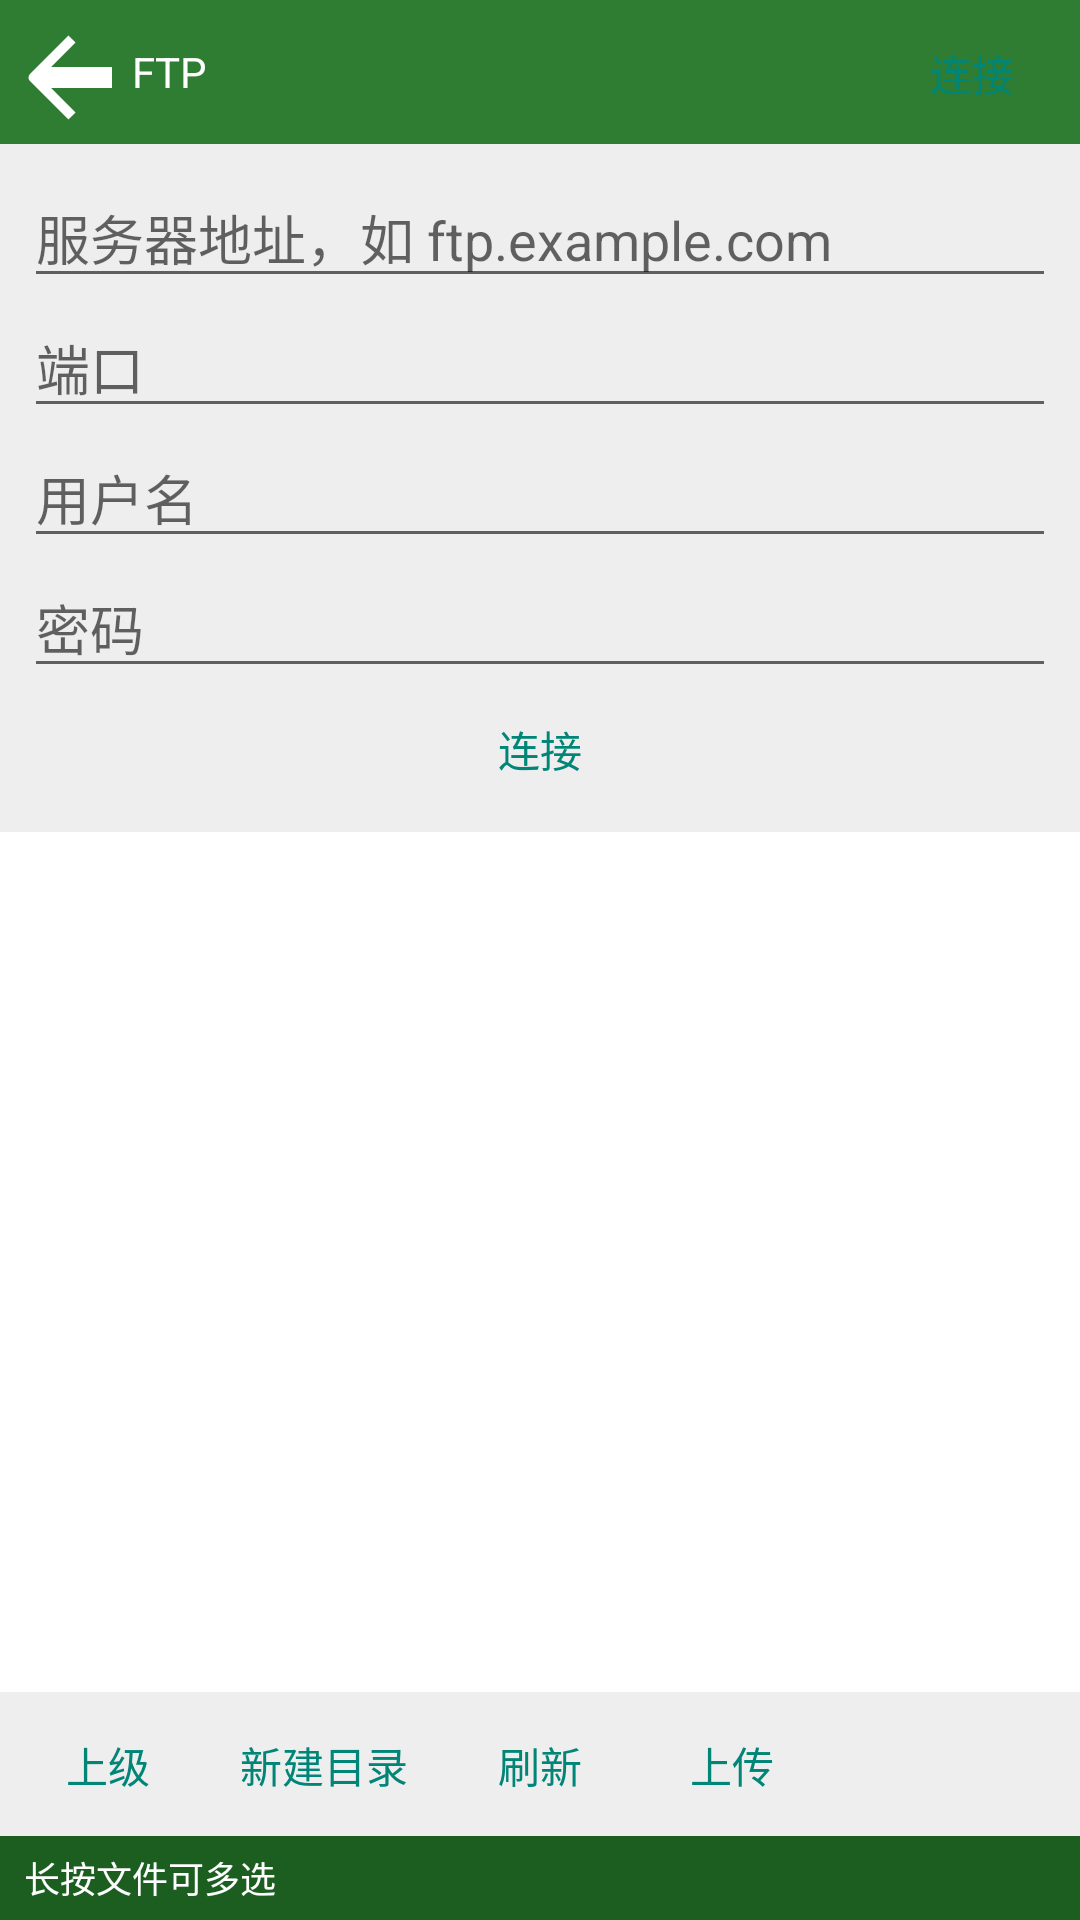

Where icons sit on this 1080×1920 app screen, as bbox=(x1, y1, x2, y2):
返回上级: bbox=(28, 35, 112, 120)
